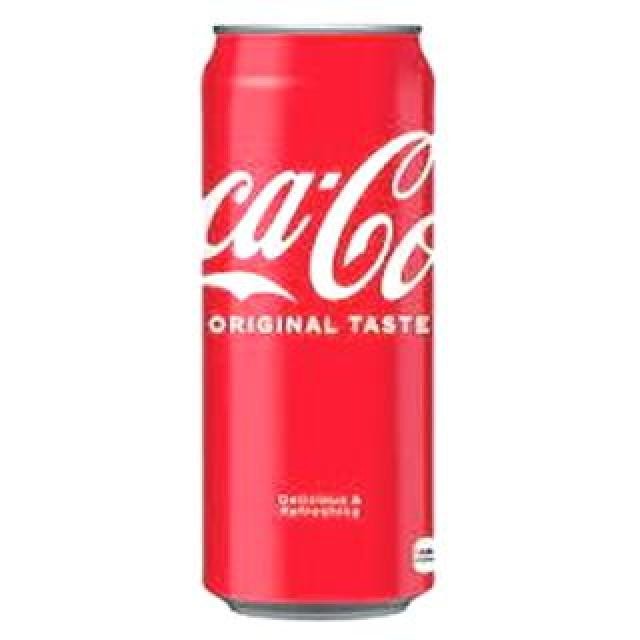Can: (196, 17, 448, 623)
